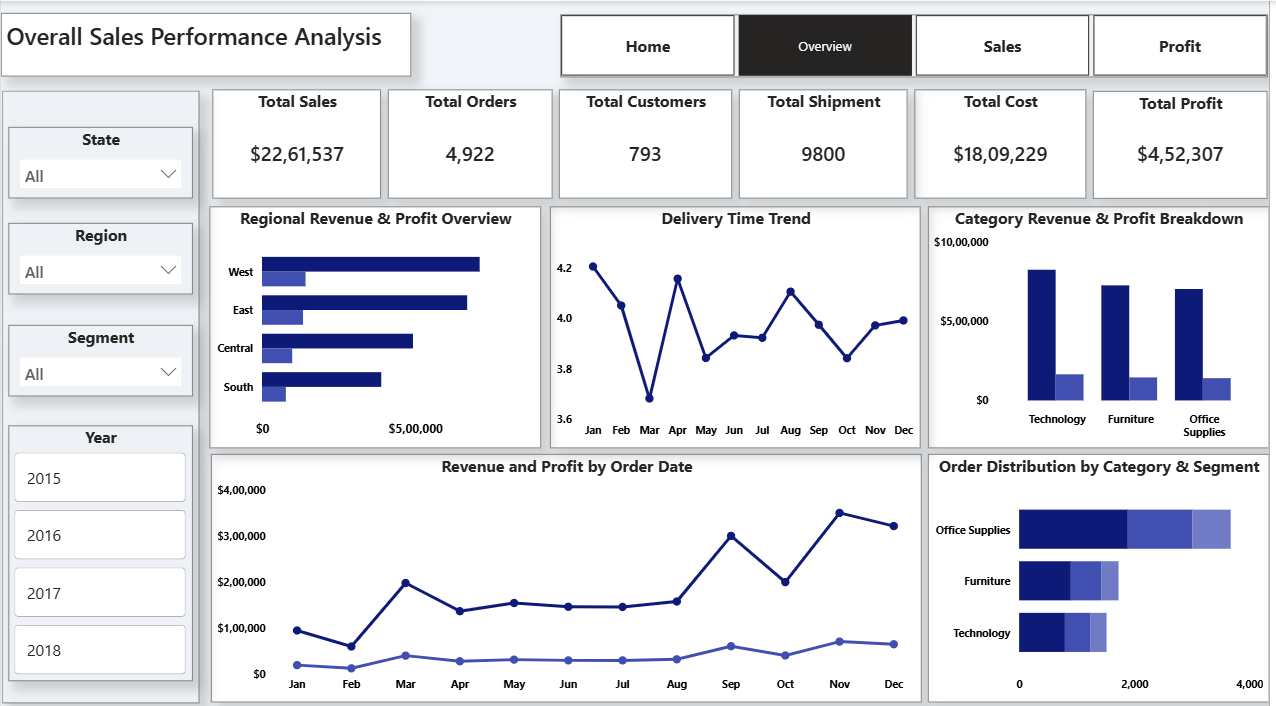

This screenshot's page, from the dashboard's own definition file:
{"tool":"powerbi","page":{"name":"Overview ","canvas":[1280,720],"ordinal":1},"visuals":[{"type":"lineChart","title":"Revenue and Profit by Order Date","fields":{"Y":["All measures.Total Sales","All measures.Total Profit"],"Category":["Date_Table.Month Short"]},"box":[212.6,457.8,717.2,250.9],"z":0},{"type":"clusteredColumnChart","title":"Category Revenue & Profit Breakdown","fields":{"Y":["All measures.Total Sales","All measures.Total Profit"],"Category":["Sales.Category"]},"box":[935.4,206.9,344.4,243.8],"z":1000},{"type":"barChart","title":"Order Distribution by Category & Segment","fields":{"Category":["Sales.Category"],"Series":["Sales.Segment"],"Y":["All measures.Total Orders"]},"box":[935.4,457.8,344.4,250.9],"z":2000},{"type":"lineChart","title":"Delivery Time Trend","fields":{"Y":["All measures.Avg Delivery Days"],"Category":["Date_Table.Month Short"]},"box":[554.2,206.9,374.2,243.8],"z":3000},{"type":"textbox","box":[0,12.8,413.9,63.8],"z":4000},{"type":"card","title":"Total Sales","fields":{"Values":["All measures.Total Sales"]},"box":[213.1,88.7,170.2,110.1],"z":5000},{"type":"card","title":"Total Orders","fields":{"Values":["All measures.Total Orders"]},"box":[390.4,88.7,165.9,110.1],"z":6000},{"type":"card","title":"Total Customers","fields":{"Values":["All measures.Total Customers"]},"box":[563.5,88.7,174.5,110.1],"z":7000},{"type":"card","title":"Total Cost","fields":{"Values":["All measures.Total Cost"]},"box":[922.5,88.7,173.1,110.1],"z":8000},{"type":"clusteredBarChart","title":"Regional Revenue & Profit Overview","fields":{"Category":["Sales.Region"],"Y":["All measures.Total Sales","All measures.Total Profit"]},"box":[211.2,206.9,334.5,243.8],"z":9000},{"type":"shape","box":[1.4,90.7,198.4,618],"z":10000},{"type":"slicer","title":"Segment","fields":{"Values":["Sales.Segment"]},"box":[7.1,327.4,185.7,72.3],"z":11000},{"type":"slicer","title":"Region","fields":{"Values":["Sales.Region"]},"box":[7.1,223.9,185.7,72.3],"z":12000},{"type":"slicer","title":"State","fields":{"Values":["Sales.State"]},"box":[7.1,127.6,185.7,72.3],"z":13000},{"type":"advancedSlicerVisual","fields":{"Values":["Date_Table.Order Date.Variation.Date Hierarchy.Year"]},"box":[7.1,428,185.7,258],"z":14000},{"type":"card","title":"Total Profit","fields":{"Values":["All measures.Total Profit"]},"box":[1102.7,90.1,175.9,108.7],"z":15000},{"type":"pageNavigator","box":[565.3,13,714.2,63.6],"z":16000},{"type":"card","title":"Total Shipment","fields":{"Values":["All measures.Total Shipments"]},"box":[745.1,88.7,170.2,110.1],"z":17000}]}

Visuals, with their boxes in screenshot pixels (x1, y1, x2, y2), scaled from the page's 1280x720 canvas onto the 1276x706 screenshot:
"Revenue and Profit by Order Date" lineChart: bbox(212, 449, 927, 695)
"Category Revenue & Profit Breakdown" clusteredColumnChart: bbox(932, 203, 1275, 442)
"Order Distribution by Category & Segment" barChart: bbox(932, 449, 1275, 695)
"Delivery Time Trend" lineChart: bbox(552, 203, 925, 442)
textbox: bbox(0, 13, 413, 75)
"Total Sales" card: bbox(212, 87, 382, 195)
"Total Orders" card: bbox(389, 87, 555, 195)
"Total Customers" card: bbox(562, 87, 736, 195)
"Total Cost" card: bbox(920, 87, 1092, 195)
"Regional Revenue & Profit Overview" clusteredBarChart: bbox(211, 203, 544, 442)
shape: bbox(1, 89, 199, 695)
"Segment" slicer: bbox(7, 321, 192, 392)
"Region" slicer: bbox(7, 220, 192, 290)
"State" slicer: bbox(7, 125, 192, 196)
advancedSlicerVisual - Date_Table.Order Date.Variation.Date Hierarchy.Year: bbox(7, 420, 192, 673)
"Total Profit" card: bbox(1099, 88, 1275, 195)
pageNavigator: bbox(564, 13, 1275, 75)
"Total Shipment" card: bbox(743, 87, 912, 195)
